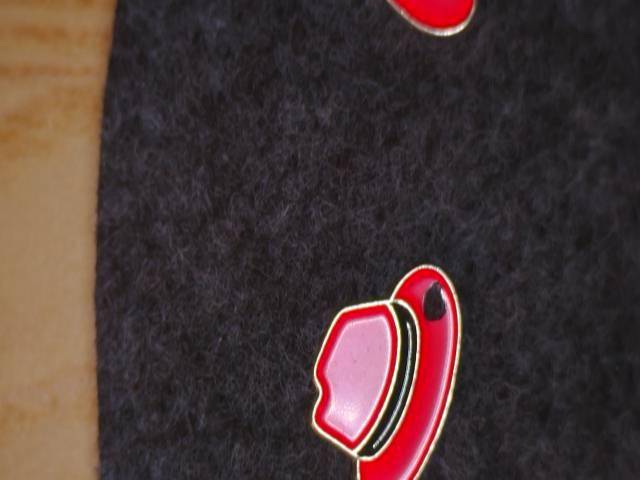Red-Hat: (286, 245, 495, 480)
Scratch: (410, 273, 466, 330)
